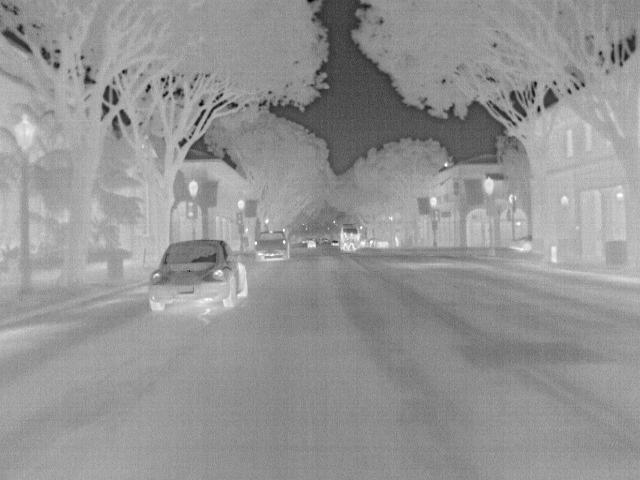car: (149, 237, 247, 313), (254, 228, 292, 262), (340, 222, 363, 242), (306, 237, 318, 248)
person: (345, 233, 358, 252)
